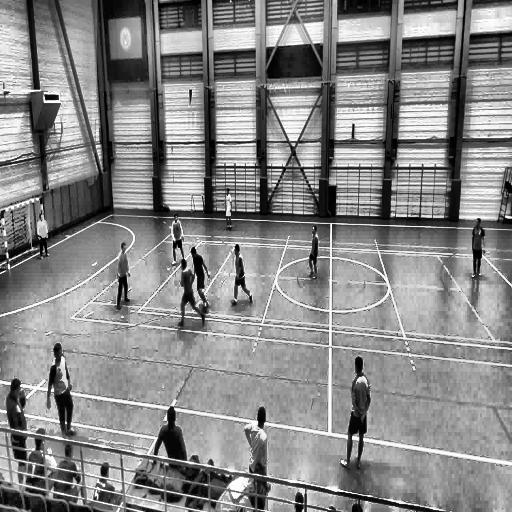ball: (202, 303, 209, 314)
player: (337, 356, 368, 472), (46, 344, 75, 436), (245, 406, 269, 511), (231, 244, 252, 308), (190, 246, 210, 310), (116, 241, 131, 309), (471, 217, 485, 276), (171, 214, 185, 267), (37, 212, 50, 259), (308, 225, 319, 280), (225, 189, 234, 227)
